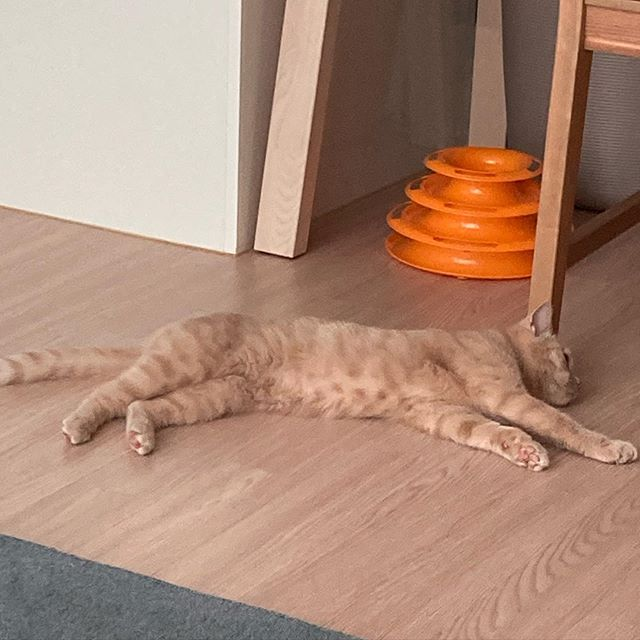cat: (501, 299, 584, 407)
